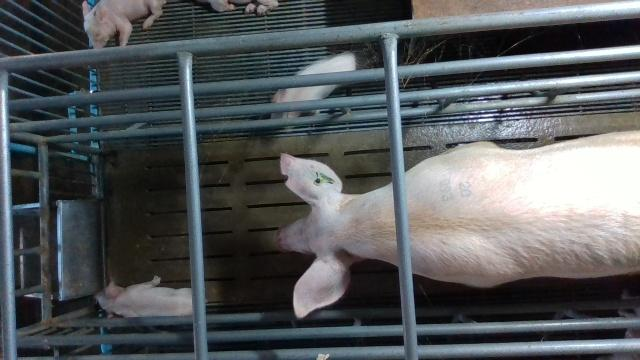piglet: (272, 50, 366, 130), (94, 275, 193, 317), (85, 0, 167, 48)
sow-stand: (277, 128, 640, 321)
